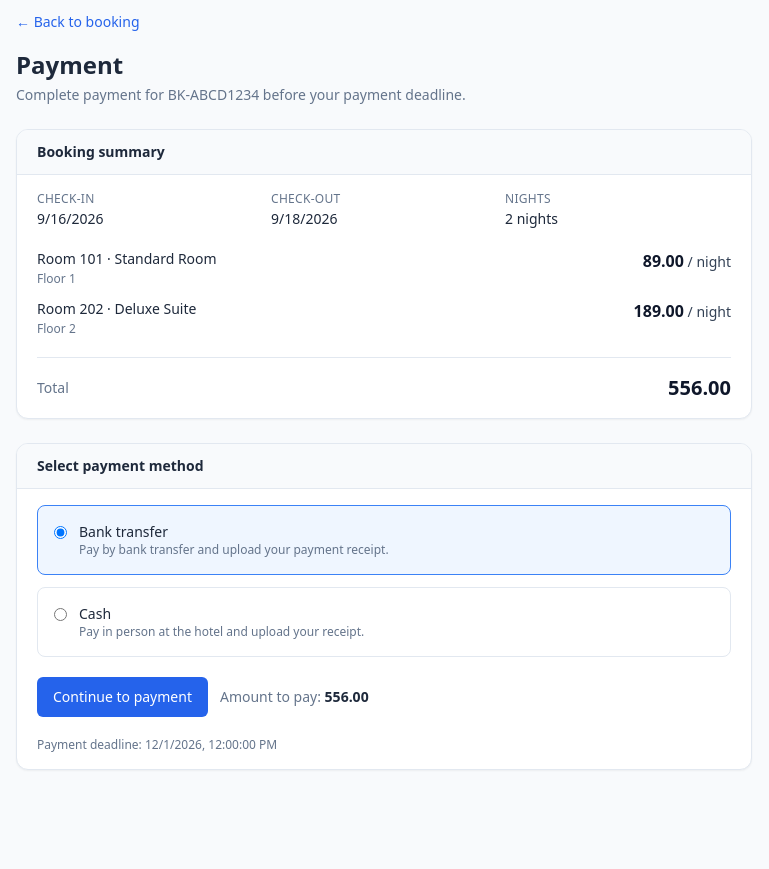
it: PaymentCreate page › shows validation errors on 422
Click the button "Continue to payment".
click(122, 697)  # box [37,677,208,717]
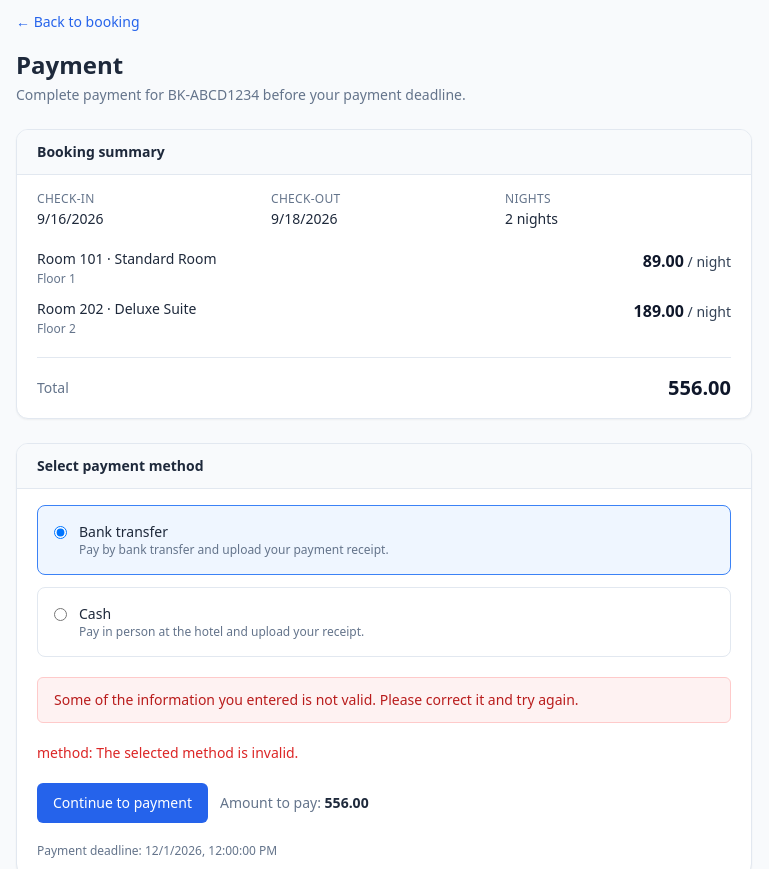
Now the text "method: The selected method is invalid." is shown, box [37,743,298,762]
